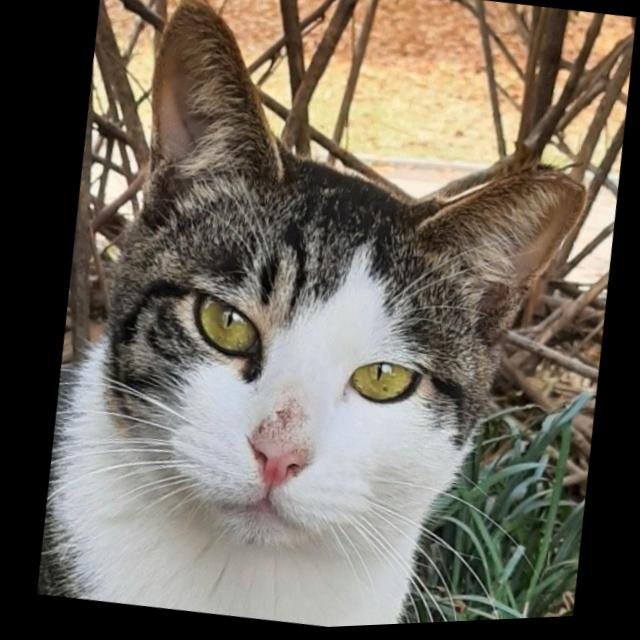animals: (32, 0, 638, 606)
